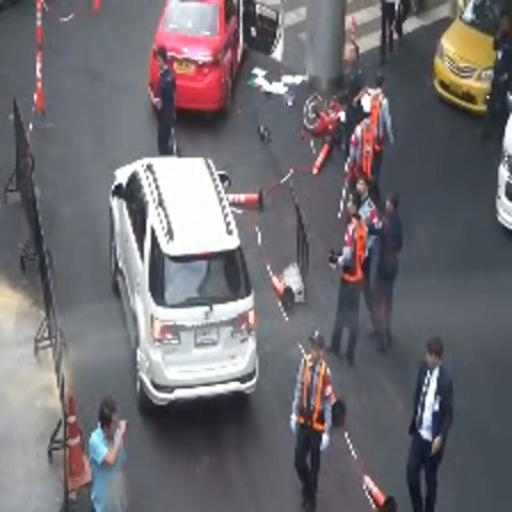nao-violencia: (324, 162, 416, 369)
